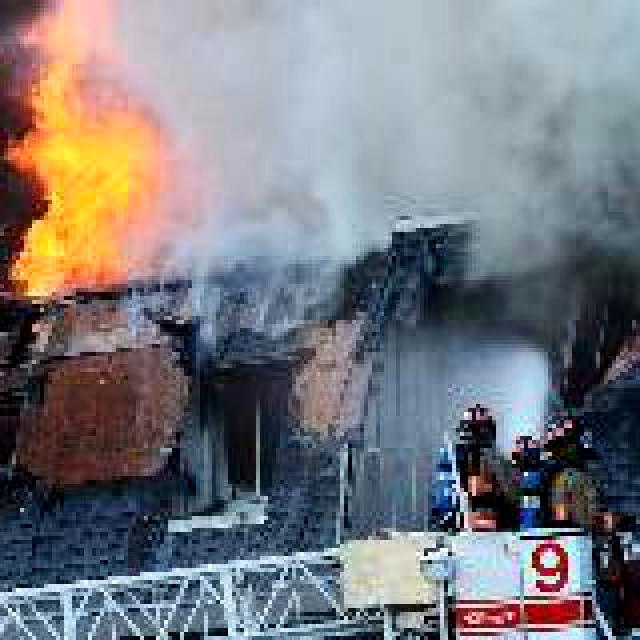smoke: (136, 0, 640, 340)
